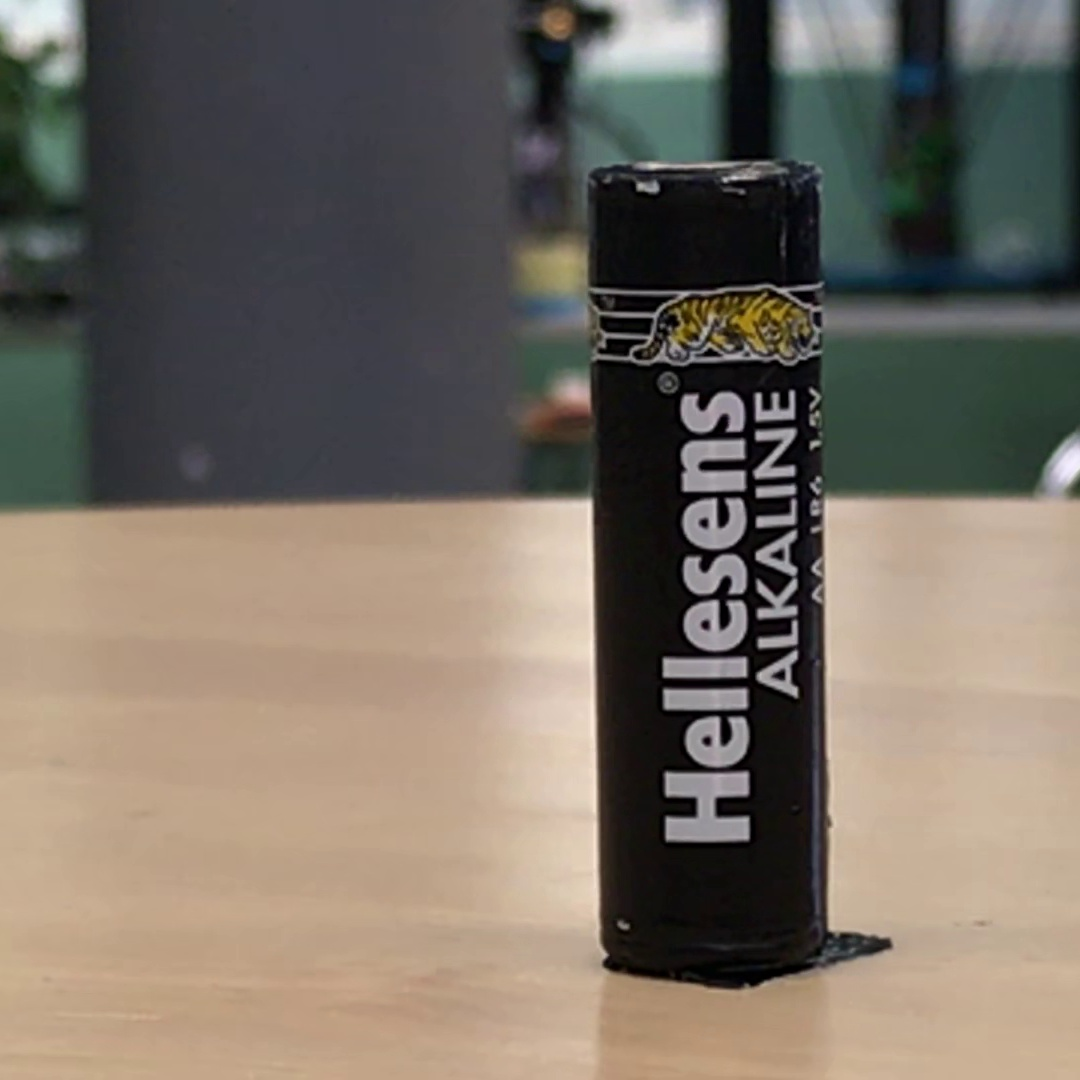keyword: (747, 586, 808, 708)
